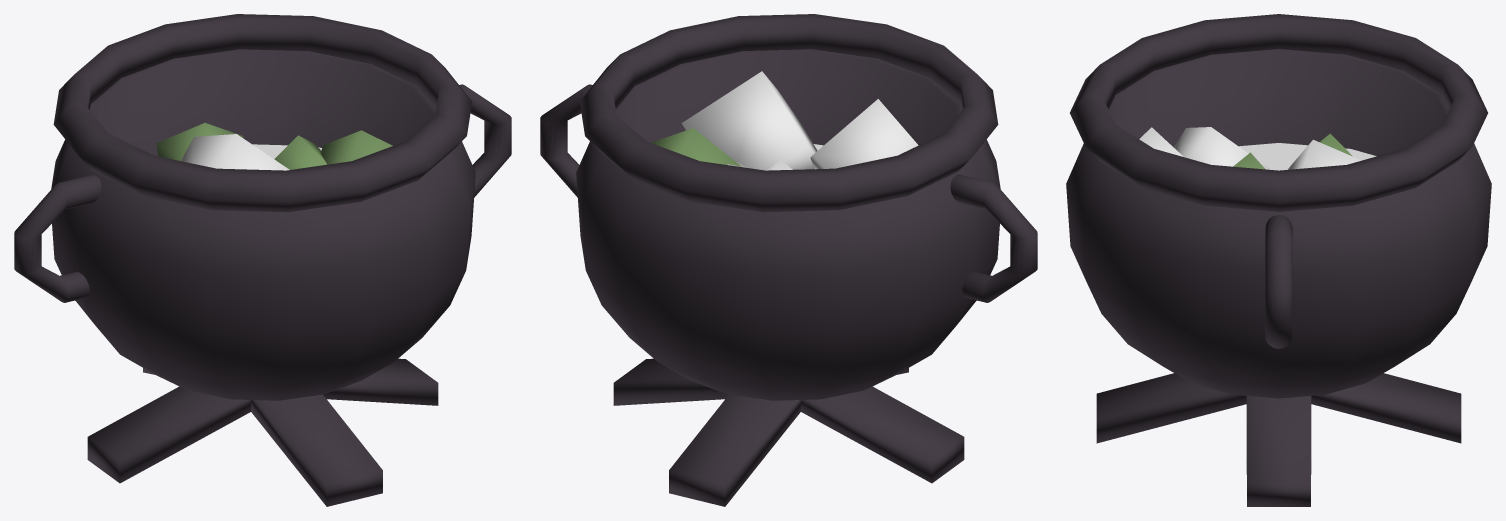
File: cauldron.fbx
3 views of the same model, side by side, from view 1: azimuth 30°, elevation 25°; view 2: azimuth 150°, elevation 25°; view 3: azimuth 270°, elevation 25° (orthographic).
Visible parts, largest first — view 1: cauldron; view 2: cauldron; view 3: cauldron.
Part boxes in pixels (x1,y1,x2,y2): cauldron: (14,14,511,506); cauldron: (540,14,1037,506); cauldron: (1066,14,1491,506).
Size of the model in its own units: 266 by 173 by 200.
